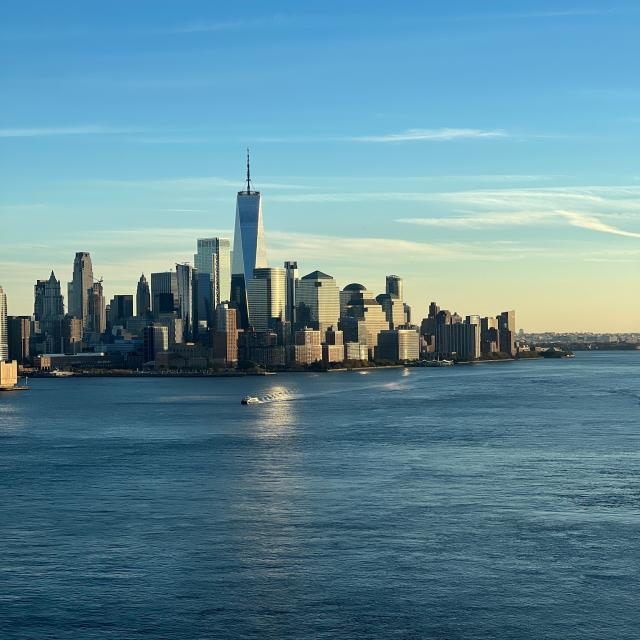WTC: (233, 149, 268, 273)
